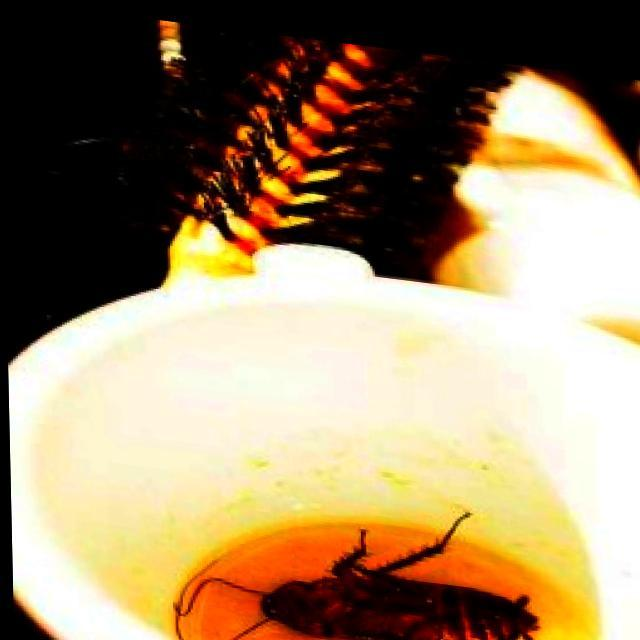cockroach: (172, 507, 544, 639)
